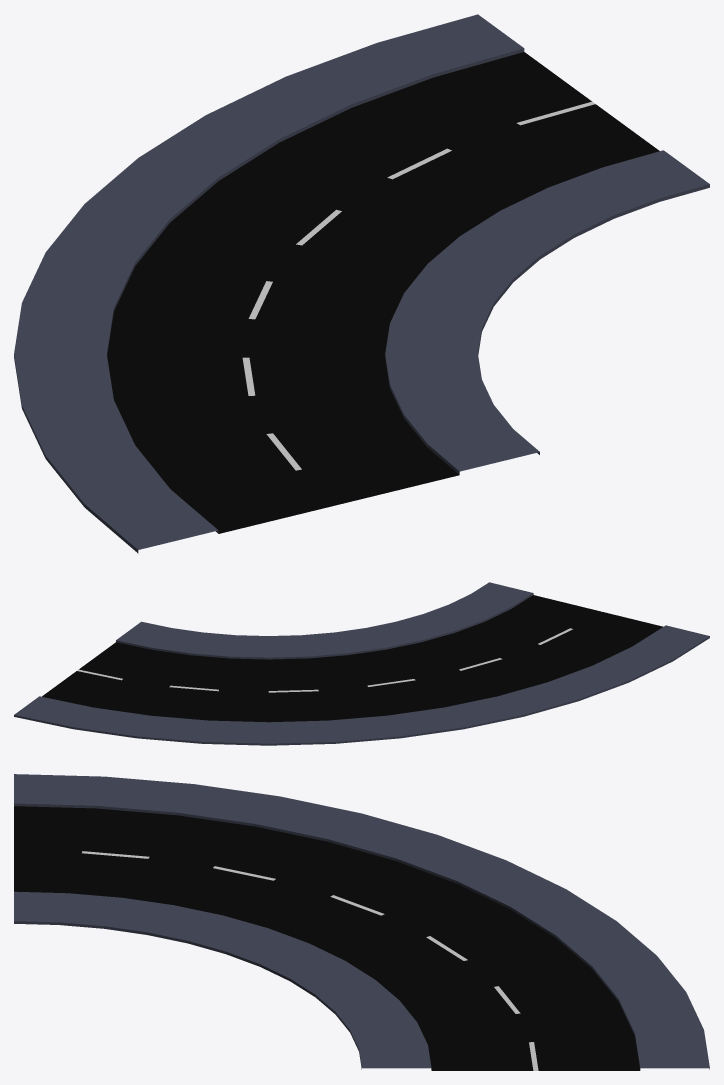
File: CalleIzquierda.obj
3 views of the same model, one above another, from view 1: azimuth 30°, elevation 25°; view 2: azimuth 150°, elevation 25°; view 3: azimuth 270°, elevation 25° (orthographic). The views are drawn at different scales.
Visible parts, largest first — view 1: Plane.004; view 2: Plane.004; view 3: Plane.004.
Part boxes in pixels (left/top/right/bottom): Plane.004: left=14, top=14, right=709, bottom=553; Plane.004: left=14, top=582, right=709, bottom=745; Plane.004: left=14, top=774, right=709, bottom=1070.
Bounding box in the file's own units: 40 × 0.17 × 40.
